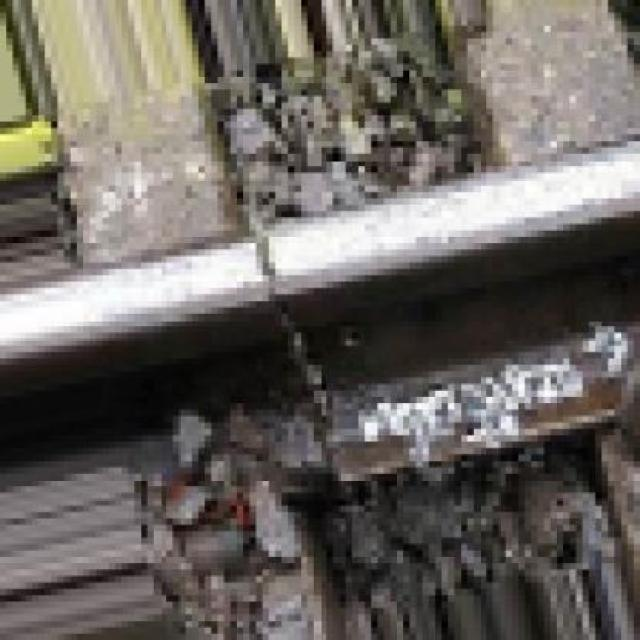defective: (169, 213, 414, 542)
